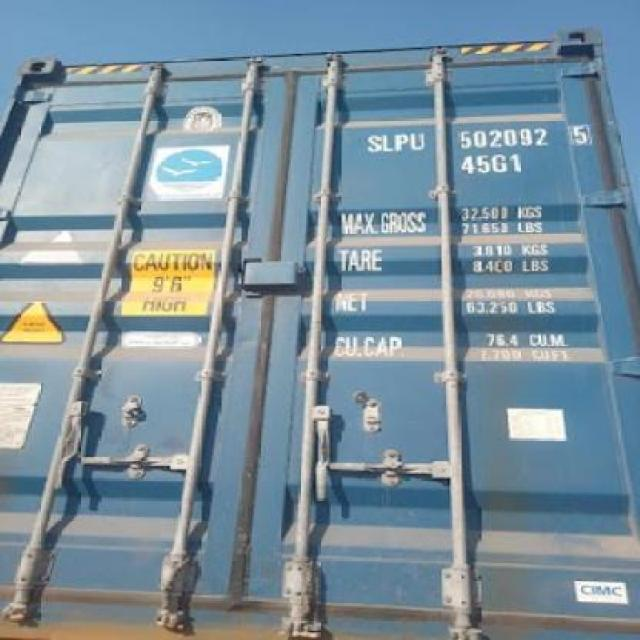ISO: (462, 152, 522, 174)
container_number: (360, 121, 588, 158)
